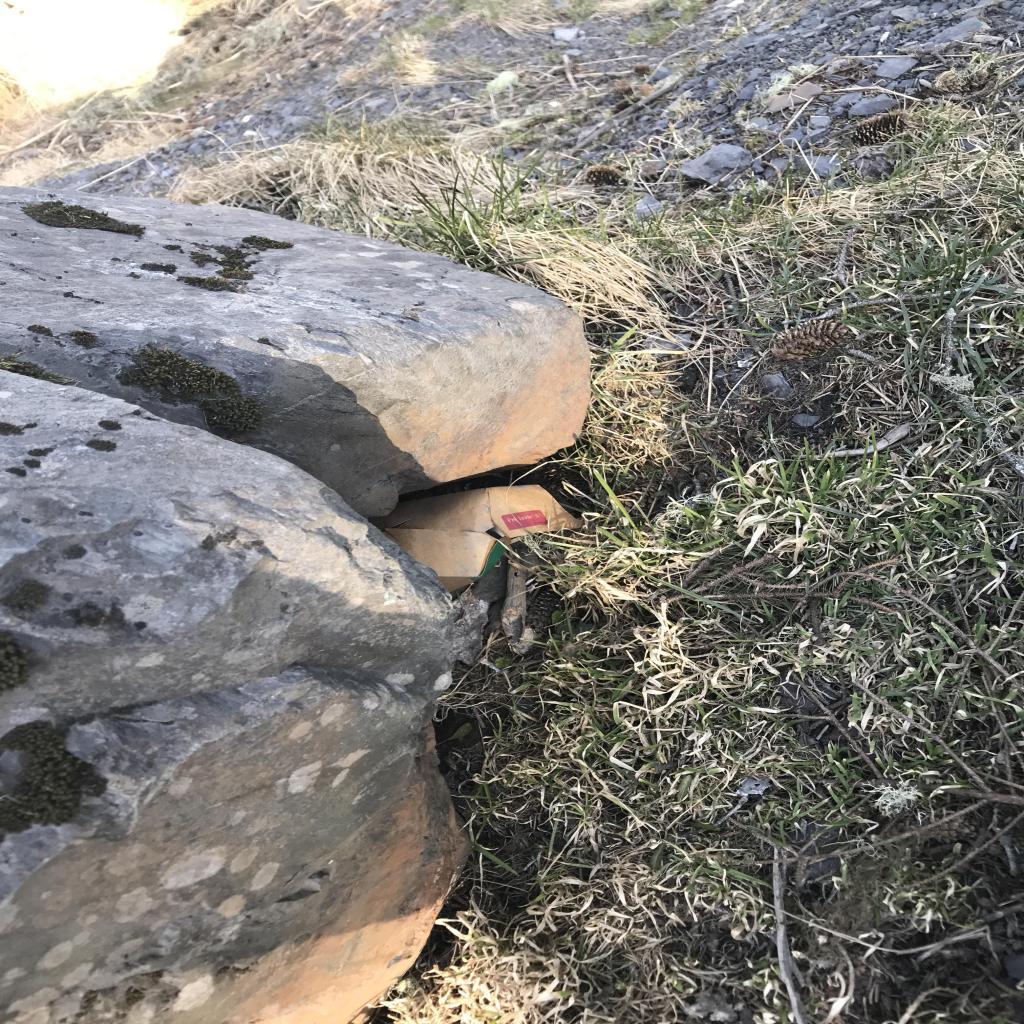Meal carton: (366, 485, 582, 592)
